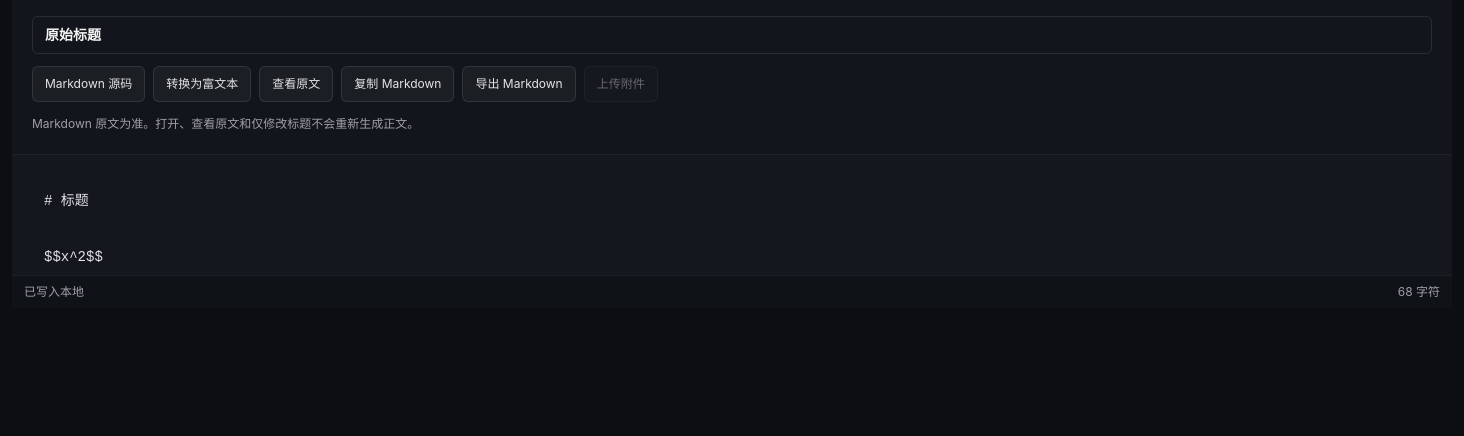
Test: markdown_preservation component source truth › blocks rich conversion when the source recovery transaction fails
Click the button "转换为富文本": (202,84) [153,66,251,102]
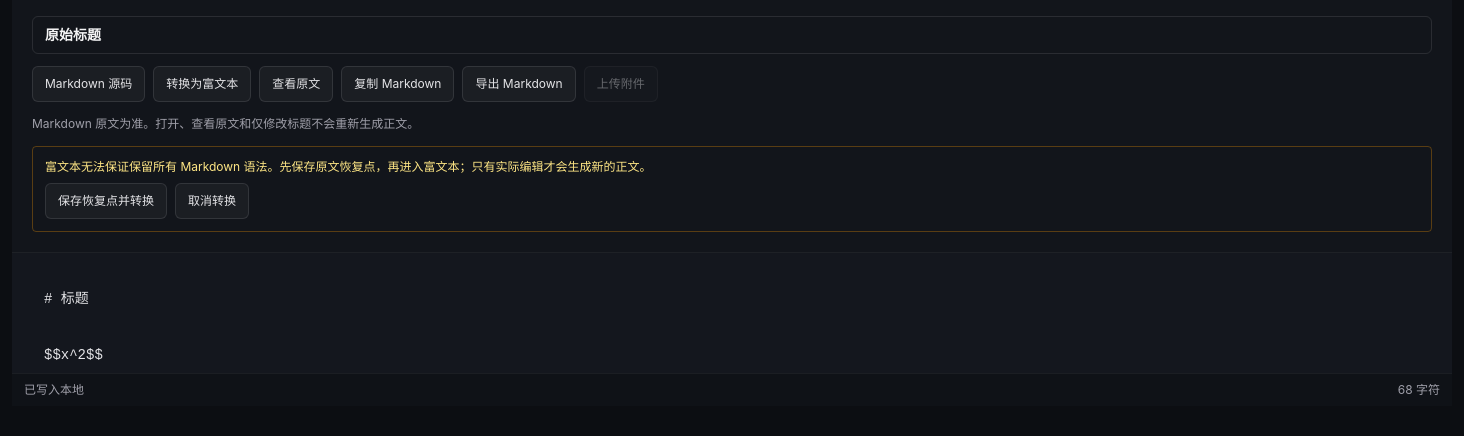
Click the button "保存恢复点并转换": (106,200) [45,182,167,218]
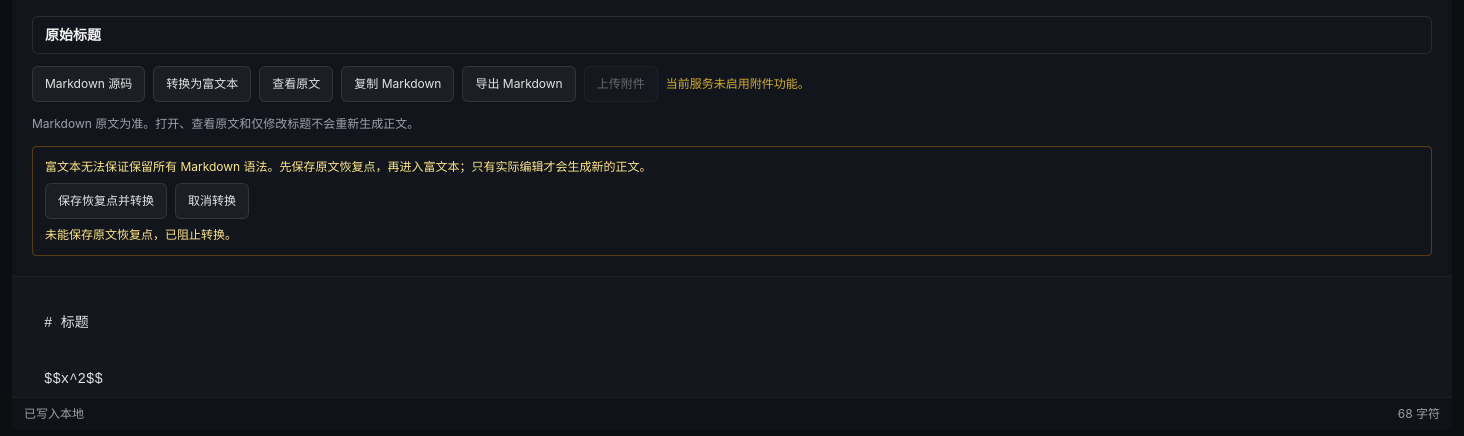
Expected: the text box named "Markdown 正文" is shown, [12,276,1452,396]
Now the message "未能保存原文恢复点，已阻止转换。" is shown, box [45,226,237,242]
